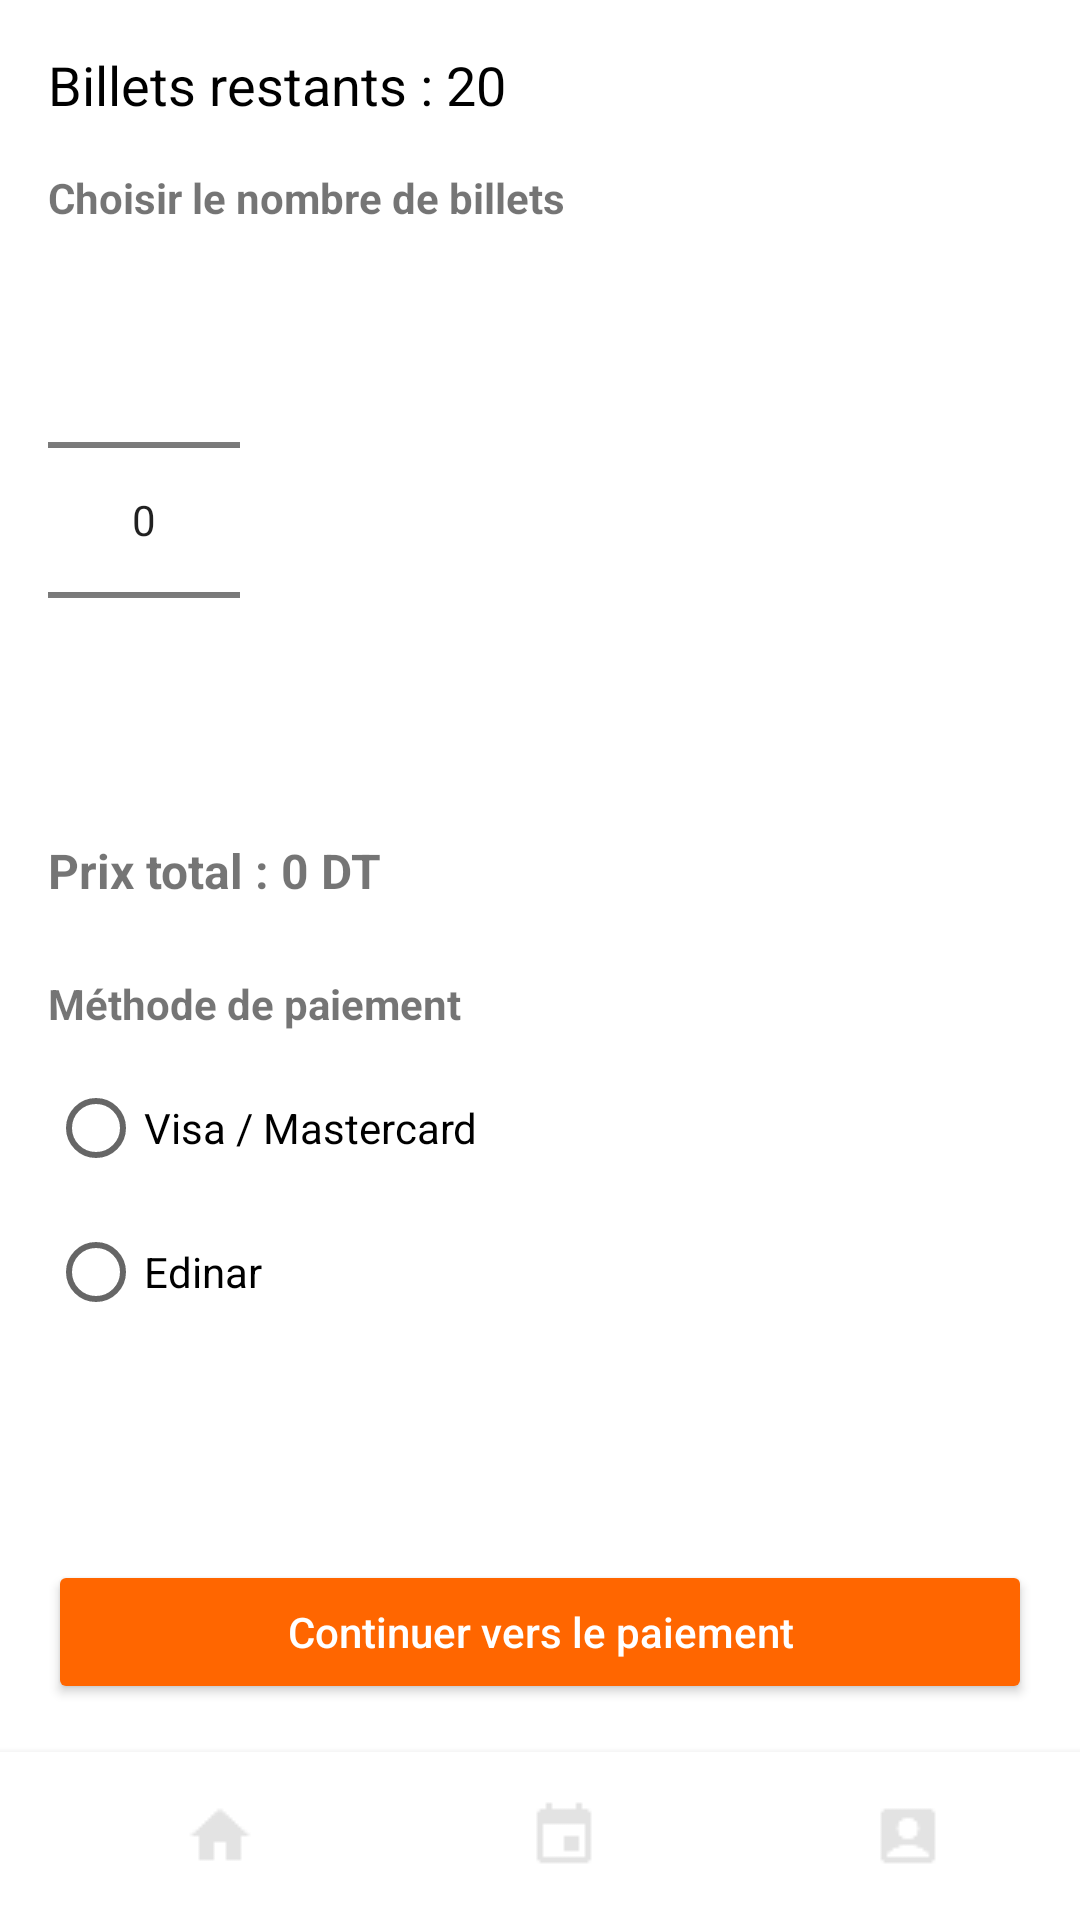

Point at icon controls on the screen. Image size 1080 × 1920, points as [x,y].
Accueil: [220,1835]
Profil: [908,1836]
Réservations: [564,1833]
